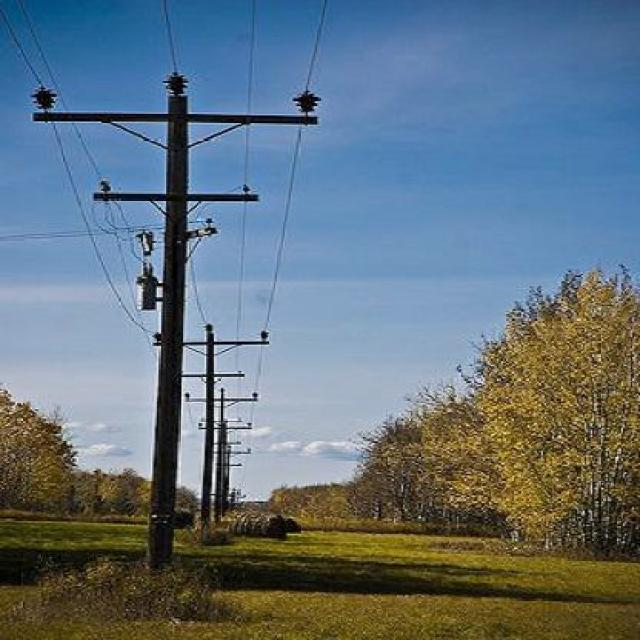crossarm: (32, 78, 318, 128), (89, 182, 262, 208)
pole: (148, 74, 195, 577)
wire: (14, 0, 145, 267), (248, 0, 329, 430), (234, 0, 256, 418), (191, 203, 215, 326), (161, 0, 181, 75)
